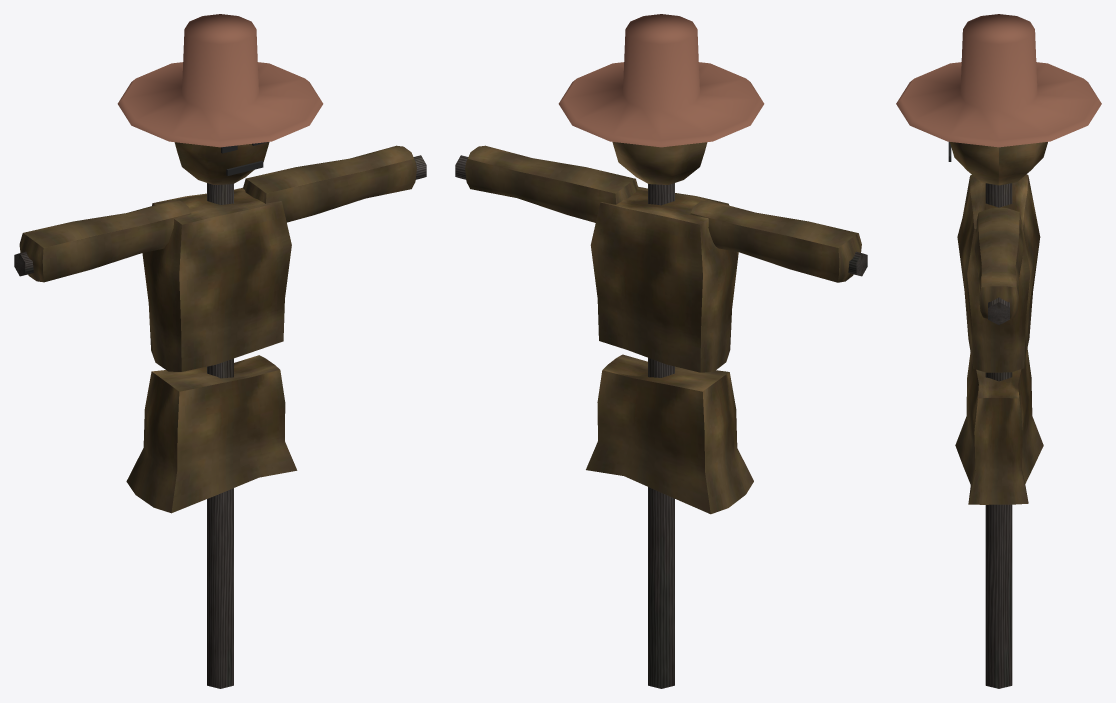
File: scarecrow.glb
3 renders of one model, left to right at view 1: azimuth 30°, elevation 25°; view 2: azimuth 150°, elevation 25°; view 3: azimuth 270°, elevation 25°, orthographic.
Visible parts, largest first — view 1: scarecrow; view 2: scarecrow; view 3: scarecrow.
Boxes of the visible parts, x1,y1,x2,y2 form: scarecrow: (14,14,426,688); scarecrow: (455,14,867,688); scarecrow: (896,14,1101,688).
Size of the model in its own units: 1.8 by 2.8 by 0.8.
4 materials, 2 textured.
